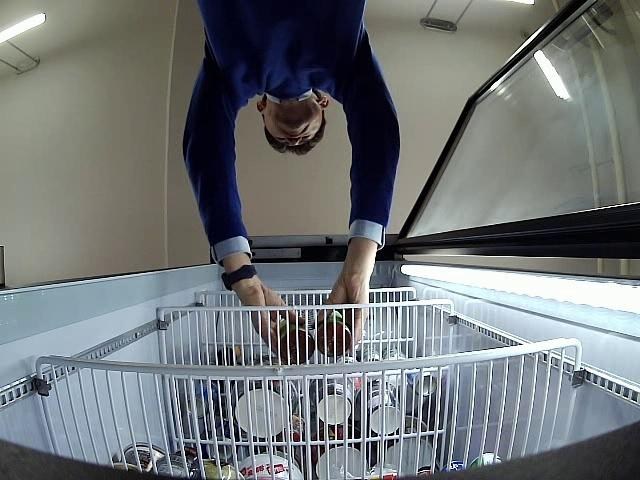00_hand: (316, 253, 373, 343), (236, 280, 305, 340)
